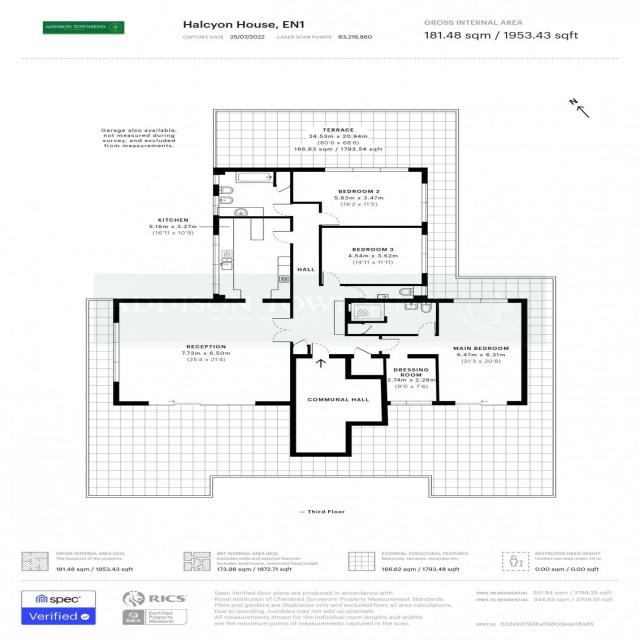DOOR: (311, 341, 331, 359), (319, 211, 342, 226), (417, 319, 437, 336), (271, 231, 294, 245), (379, 338, 401, 352), (271, 203, 293, 217), (322, 270, 341, 286), (345, 286, 367, 299)
DOUBLE DOOR: (269, 315, 293, 344)
ROOM: (113, 299, 297, 406), (379, 298, 528, 405), (289, 340, 388, 457), (290, 167, 428, 228), (213, 216, 293, 303), (319, 225, 428, 286), (380, 354, 440, 405)
WINDOW: (110, 320, 121, 384), (211, 234, 222, 294), (323, 166, 410, 173), (420, 181, 431, 224), (420, 233, 430, 274), (452, 297, 509, 304), (389, 400, 433, 406), (212, 194, 220, 215), (210, 173, 221, 186), (365, 260, 369, 264)
